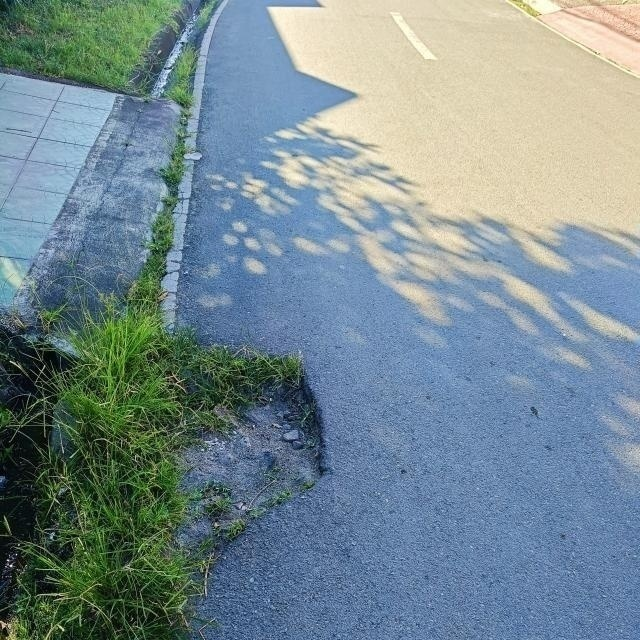pothole: (124, 298, 346, 584)
